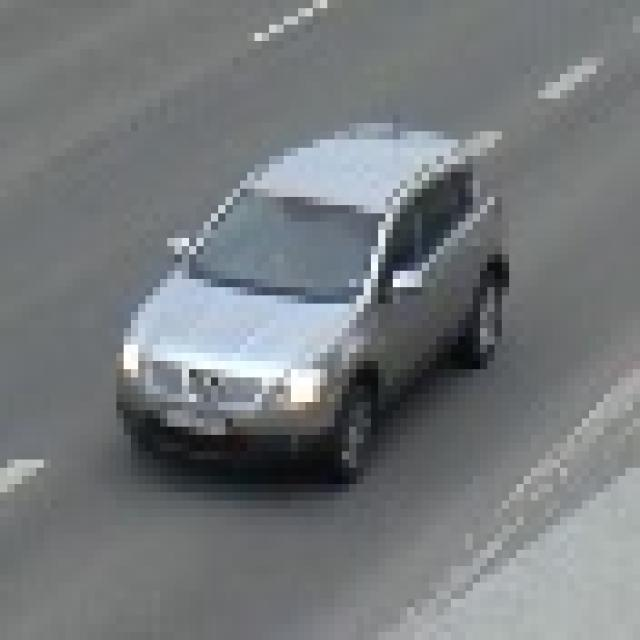SUV: (109, 124, 504, 469)
